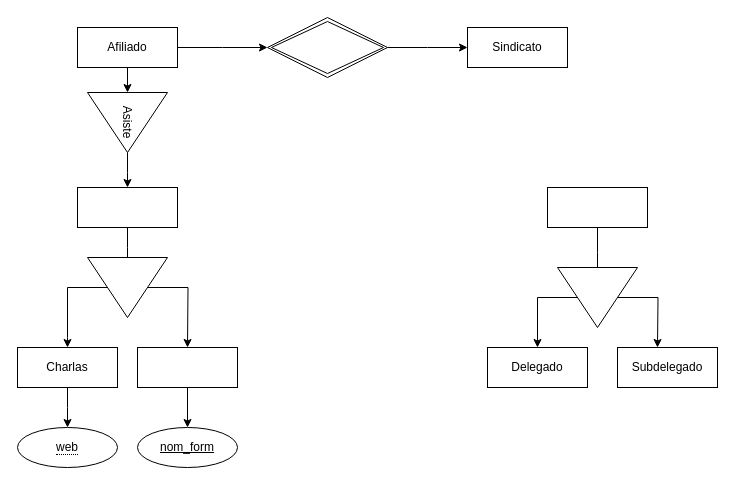
Image size: 735x485. Some labels were removed from this diagram. Here are the shapes that lost their labels. From the top down, the box of each, then its label:
(266, 16, 388, 78): pertenece
(76, 186, 178, 228): Actividades
(546, 186, 648, 228): Alumnos
(136, 346, 238, 388): Formacion
